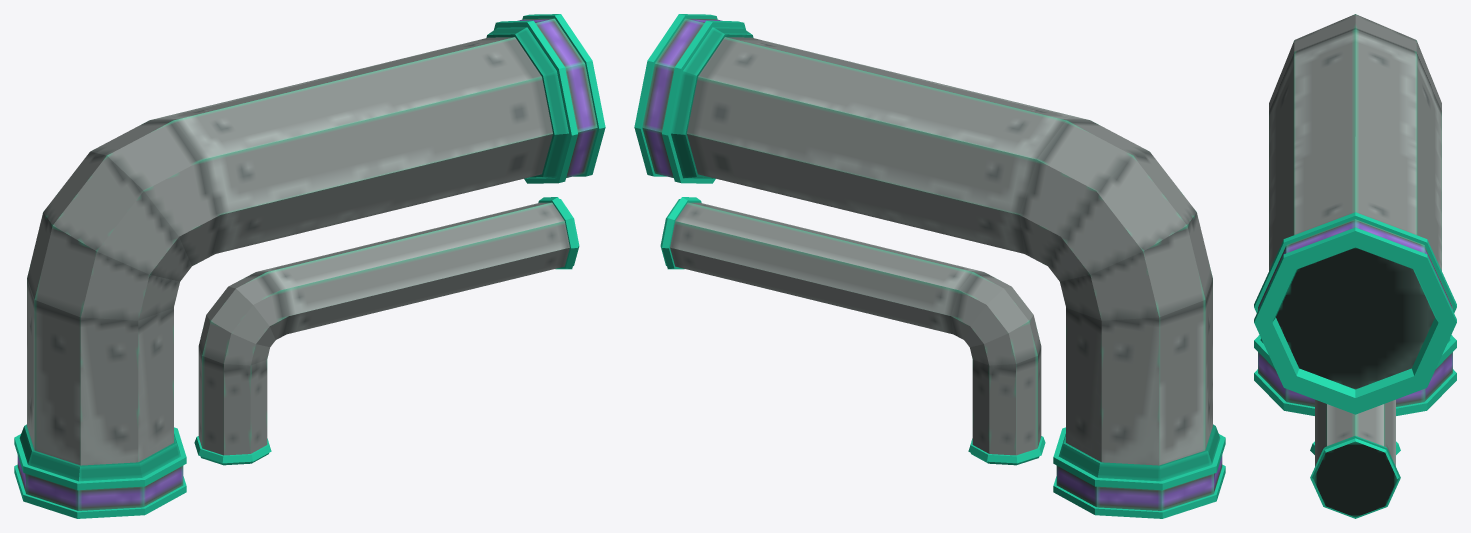
File: pipe_floor_connector.fbx
3 views of the same model, side by side, from view 1: azimuth 30°, elevation 25°; view 2: azimuth 150°, elevation 25°; view 3: azimuth 270°, elevation 25° (orthographic). The views are drawn at different scales.
Visible parts, largest first — view 1: Rectangle001; view 2: Rectangle001; view 3: Rectangle001.
Part boxes in pixels (left/top/right/bottom): Rectangle001: left=14, top=14, right=605, bottom=518; Rectangle001: left=634, top=14, right=1225, bottom=518; Rectangle001: left=1254, top=14, right=1456, bottom=518.
Size of the model in its own units: 259 by 164 by 74.5.
Materials: 1 (1 with a texture image).
